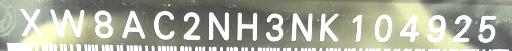letter: (48, 6, 86, 37), (205, 8, 231, 43), (18, 6, 44, 39), (121, 8, 147, 39), (180, 10, 206, 41), (316, 12, 342, 43), (152, 9, 176, 40), (290, 12, 314, 43), (396, 13, 420, 44), (236, 10, 258, 43), (90, 9, 114, 38), (263, 12, 285, 43), (425, 12, 447, 43), (477, 12, 499, 43), (450, 13, 472, 44), (372, 12, 392, 43), (349, 12, 365, 45)
